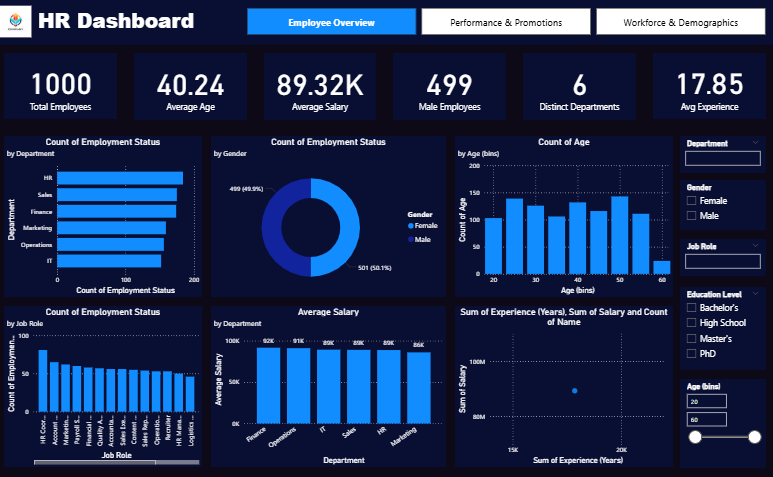

What the dashboard file says about the page in this screenshot:
{"tool":"powerbi","page":{"name":"Employee Overview","canvas":[1450,900],"ordinal":0},"visuals":[{"type":"shape","box":[0,0,1450,89.3],"z":0},{"type":"card","fields":{"Values":["HR Dataset.Total Employees"]},"box":[15,104.7,210.3,123.5],"z":0,"group":"g1"},{"type":"barChart","fields":{"Category":["HR Dataset.Department"],"Y":["CountNonNull(HR Dataset.Employment Status)"]},"box":[14.9,258.7,368.5,299.7],"z":0,"group":"g2"},{"type":"columnChart","fields":{"Y":["CountNonNull(HR Dataset.Employment Status)"],"Category":["HR Dataset.Job Role"]},"box":[14.9,574.7,368.5,299.7],"z":0,"group":"g3"},{"type":"image","box":[0,11.5,72.3,69],"z":1000},{"type":"card","fields":{"Values":["HR Dataset.Average Age"]},"box":[256.9,104.1,210.3,124.7],"z":1000,"group":"g1"},{"type":"donutChart","fields":{"Y":["CountNonNull(HR Dataset.Employment Status)"],"Category":["HR Dataset.Gender"]},"box":[400.2,258.7,437.4,299.7],"z":1000,"group":"g2"},{"type":"columnChart","fields":{"Category":["HR Dataset.Department"],"Y":["HR Dataset.Average Salary"]},"box":[400.2,574.7,437.4,299.7],"z":1000,"group":"g3"},{"type":"textbox","box":[72.6,11.2,327.6,68.9],"z":2000},{"type":"card","fields":{"Values":["HR Dataset.Average Salary"]},"box":[498.9,104.1,208.5,124.7],"z":2000,"group":"g1"},{"type":"columnChart","fields":{"Category":["HR Dataset.Age (bins)"],"Y":["CountNonNull(HR Dataset.Age)"]},"box":[854.4,258.7,405.8,299.7],"z":2000,"group":"g2"},{"type":"scatterChart","fields":{"X":["Sum(HR Dataset.Experience (Years))"],"Y":["Sum(HR Dataset.Salary)"]},"box":[854.4,574.7,405.8,299.7],"z":2000,"group":"g3"},{"type":"group","id":"g1","title":"Group 1","box":[15,104.1,1418.2,124.7],"z":3000},{"type":"card","fields":{"Values":["HR Dataset.Male Employees"]},"box":[739,104.1,210.3,124.7],"z":3000,"group":"g1"},{"type":"card","fields":{"Values":["HR Dataset.Distinct Departments"]},"box":[980.9,104.1,210.3,124.7],"z":4000,"group":"g1"},{"type":"group","id":"g2","title":"Group 2","box":[14.9,258.7,1245.3,299.7],"z":4000},{"type":"card","fields":{"Values":["HR Dataset.Avg Experience"]},"box":[1222.9,105,210.3,122.8],"z":5000,"group":"g1"},{"type":"group","id":"g3","title":"Group 2","box":[14.9,574.7,1245.3,299.7],"z":5000},{"type":"slicer","fields":{"Values":["HR Dataset.Department"]},"box":[1273.2,258.7,160.1,68.9],"z":5001},{"type":"slicer","fields":{"Values":["HR Dataset.Gender"]},"box":[1273.2,340.6,160.1,93.1],"z":5002},{"type":"slicer","fields":{"Values":["HR Dataset.Job Role"]},"box":[1273.2,450.4,160.1,68.9],"z":5003},{"type":"slicer","fields":{"Values":["HR Dataset.Education Level"]},"box":[1273.2,539.8,160.1,154.5],"z":5004},{"type":"slicer","fields":{"Values":["HR Dataset.Age (bins)"]},"box":[1273.2,711,160.1,163.8],"z":5005},{"type":"pageNavigator","box":[467.2,20.5,966,50.3],"z":5006}]}

Visuals, with their boxes in screenshot pixels (x1, y1, x2, y2), scaled from the page's 1450x900 canvas onto the 773x477 screenshot:
shape: (left=0, top=0, right=772, bottom=47)
card - HR Dataset.Total Employees: (left=8, top=55, right=120, bottom=121)
barChart - HR Dataset.Department x CountNonNull(HR Dataset.Employment Status): (left=8, top=137, right=204, bottom=296)
columnChart - CountNonNull(HR Dataset.Employment Status) x HR Dataset.Job Role: (left=8, top=305, right=204, bottom=463)
image: (left=0, top=6, right=39, bottom=43)
card - HR Dataset.Average Age: (left=137, top=55, right=249, bottom=121)
donutChart - CountNonNull(HR Dataset.Employment Status) x HR Dataset.Gender: (left=213, top=137, right=447, bottom=296)
columnChart - HR Dataset.Department x HR Dataset.Average Salary: (left=213, top=305, right=447, bottom=463)
textbox: (left=39, top=6, right=213, bottom=42)
card - HR Dataset.Average Salary: (left=266, top=55, right=377, bottom=121)
columnChart - HR Dataset.Age (bins) x CountNonNull(HR Dataset.Age): (left=455, top=137, right=672, bottom=296)
scatterChart - Sum(HR Dataset.Experience (Years)) x Sum(HR Dataset.Salary): (left=455, top=305, right=672, bottom=463)
"Group 1" group: (left=8, top=55, right=764, bottom=121)
card - HR Dataset.Male Employees: (left=394, top=55, right=506, bottom=121)
card - HR Dataset.Distinct Departments: (left=523, top=55, right=635, bottom=121)
"Group 2" group: (left=8, top=137, right=672, bottom=296)
card - HR Dataset.Avg Experience: (left=652, top=56, right=764, bottom=121)
"Group 2" group: (left=8, top=305, right=672, bottom=463)
slicer - HR Dataset.Department: (left=679, top=137, right=764, bottom=174)
slicer - HR Dataset.Gender: (left=679, top=181, right=764, bottom=230)
slicer - HR Dataset.Job Role: (left=679, top=239, right=764, bottom=275)
slicer - HR Dataset.Education Level: (left=679, top=286, right=764, bottom=368)
slicer - HR Dataset.Age (bins): (left=679, top=377, right=764, bottom=464)
pageNavigator: (left=249, top=11, right=764, bottom=38)
